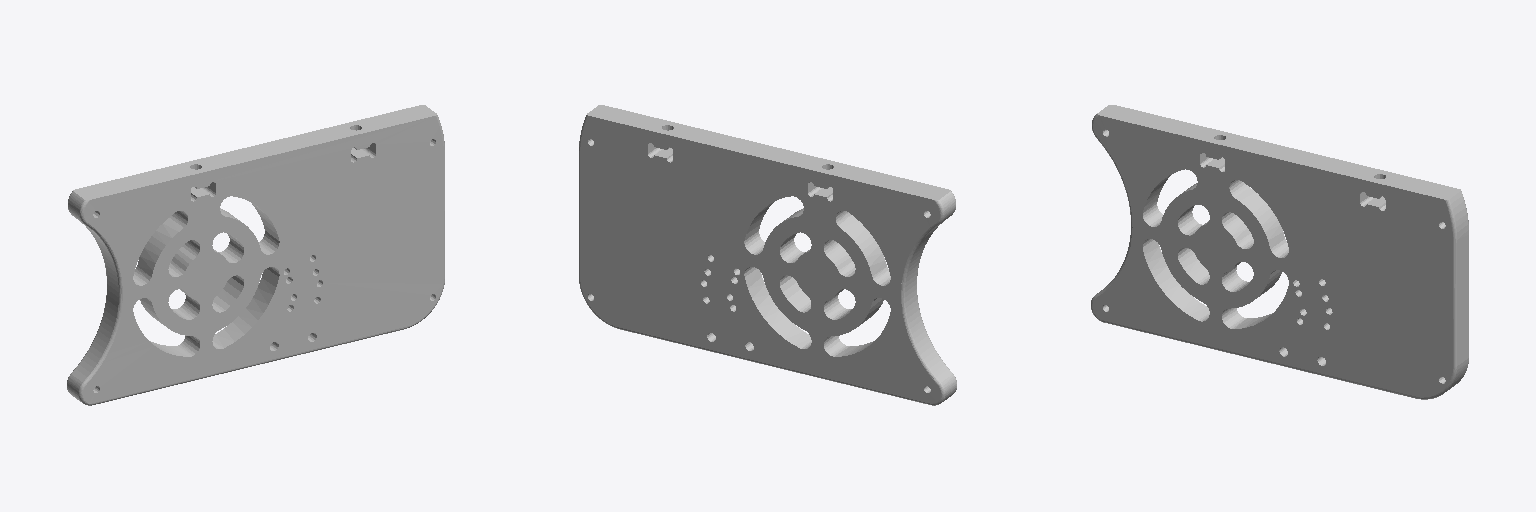
Rendered from under_hull_r1_vis.obj.
3 views of the same model, side by side, from view 1: azimuth 30°, elevation 25°; view 2: azimuth 150°, elevation 25°; view 3: azimuth 330°, elevation 25° (orthographic).
Parts seen in each view (by area): view 1: Under_Hull_R1_vis; view 2: Under_Hull_R1_vis; view 3: Under_Hull_R1_vis.
Part boxes in pixels (left/top/right/bottom): Under_Hull_R1_vis: left=67, top=105, right=444, bottom=405; Under_Hull_R1_vis: left=579, top=105, right=956, bottom=405; Under_Hull_R1_vis: left=1091, top=105, right=1468, bottom=399.
Bounding box in the file's own units: 0.1831 × 0.099 × 0.0127.